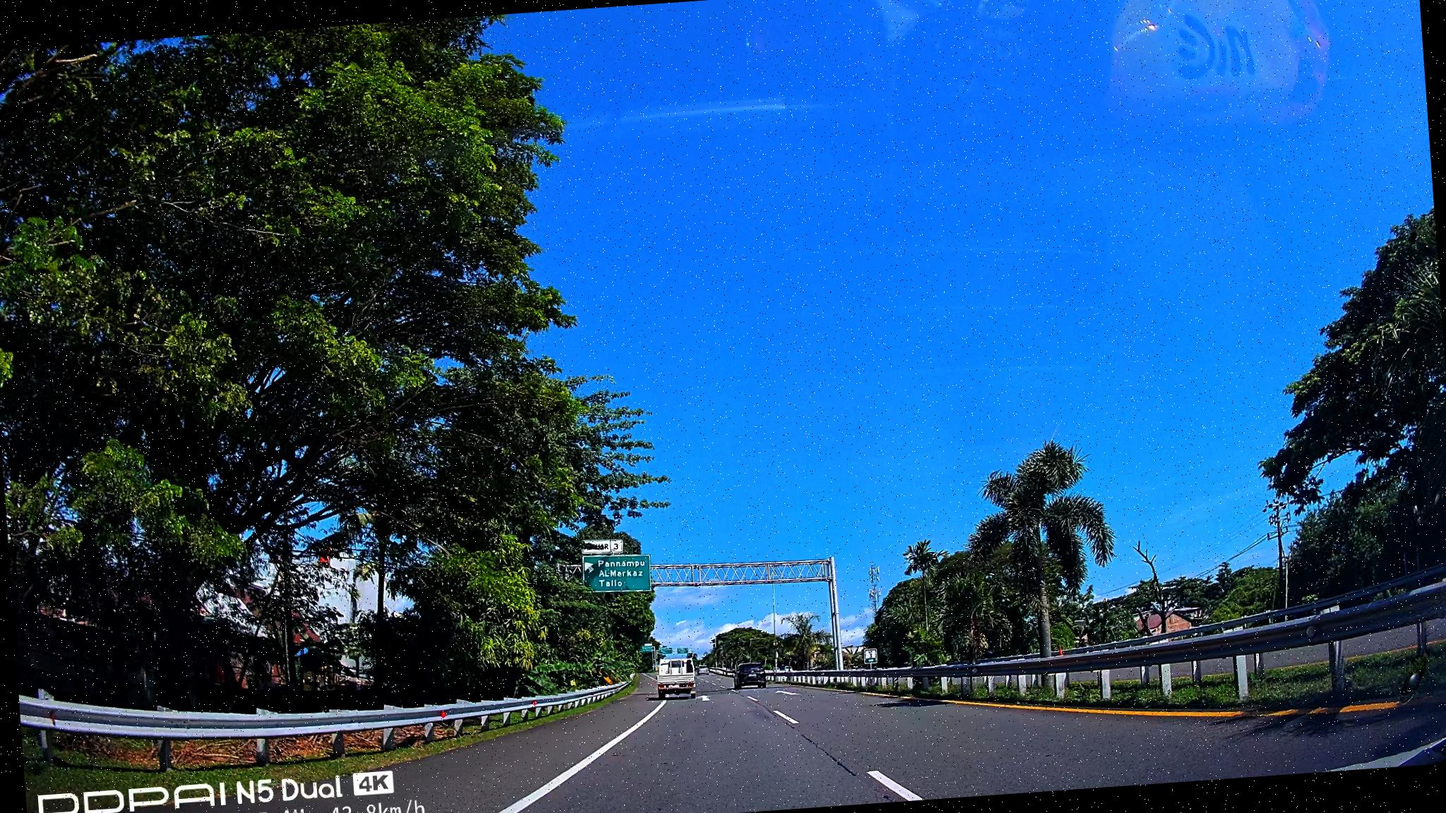rambu_teks: (580, 551, 653, 596)
